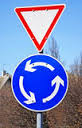yield_sign: (14, 4, 67, 53)
